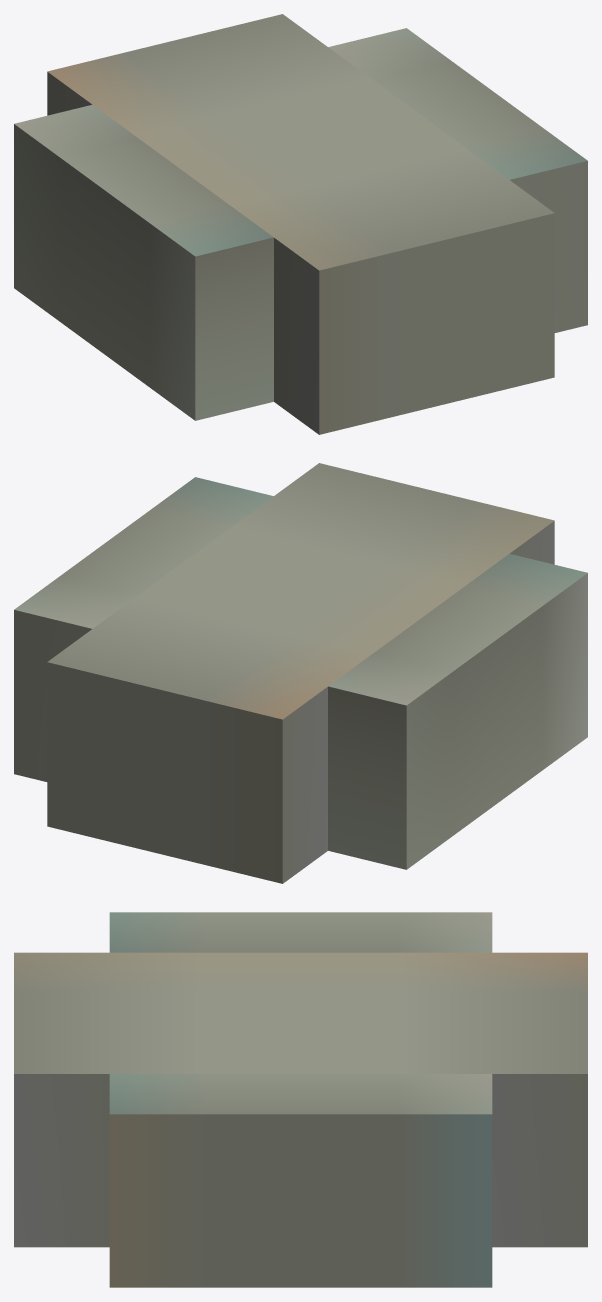
Rendered from PillowDarkGreyTiny_00.obj.
3 renders of one model, top to bottom at view 1: azimuth 30°, elevation 25°; view 2: azimuth 150°, elevation 25°; view 3: azimuth 270°, elevation 25°, orthographic. The views are drawn at different scales.
Parts seen in each view (by area): view 1: PillowDarkGreyTiny_00; view 2: PillowDarkGreyTiny_00; view 3: PillowDarkGreyTiny_00.
Part boxes in pixels (x1,y1,x2,y2): PillowDarkGreyTiny_00: [14, 14, 587, 434]; PillowDarkGreyTiny_00: [14, 463, 587, 883]; PillowDarkGreyTiny_00: [14, 912, 587, 1287].
Bounding box in the file's own units: 0.25 × 0.1 × 0.3.
